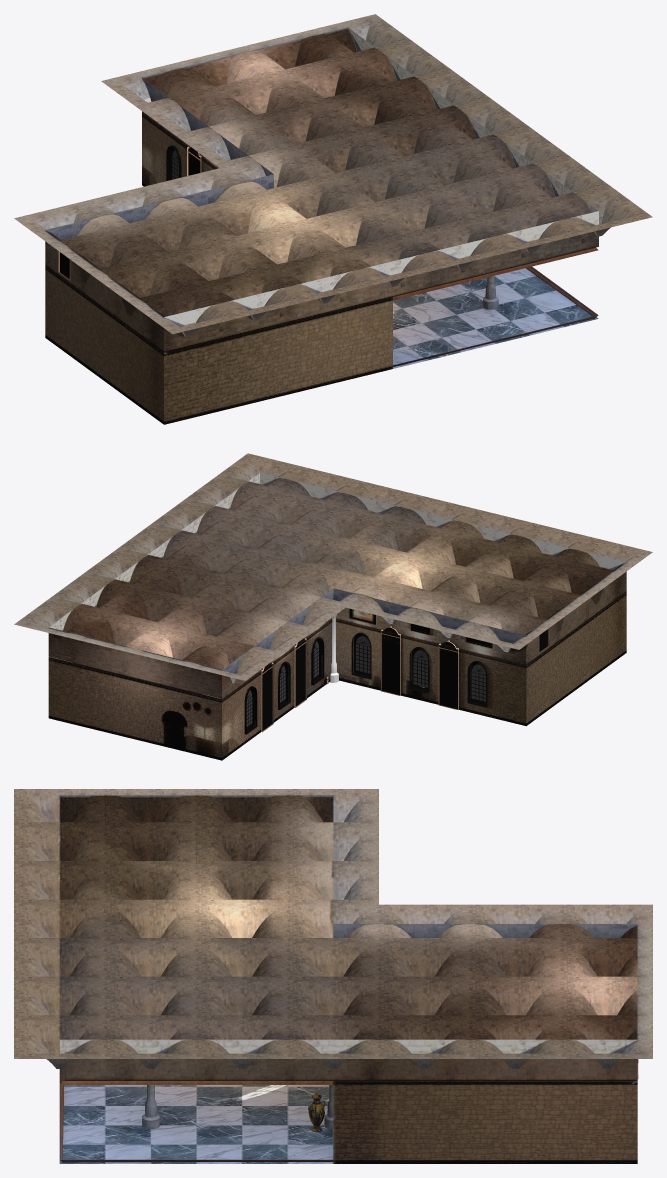
The model's file is library.obj.
3 views of the same model, one above another, from view 1: azimuth 30°, elevation 25°; view 2: azimuth 150°, elevation 25°; view 3: azimuth 270°, elevation 25° (orthographic). The views are drawn at different scales.
Visible parts, largest first — view 1: Object_1, Object_2; view 2: Object_1, Object_32, Object_9; view 3: Object_1, Object_2.
Boxes of the visible parts, box(x1,y1,x2,y2) form: Object_1: box(14, 14, 652, 424); Object_2: box(393, 247, 598, 366); Object_1: box(14, 453, 652, 760); Object_32: box(246, 636, 485, 726); Object_9: box(261, 626, 458, 732); Object_1: box(14, 789, 652, 1163); Object_2: box(59, 1059, 638, 1162).
Size of the model in its own units: 42 by 9.09 by 42.
Materials: 32 (25 with a texture image).
